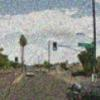traffic lights: (52, 41, 58, 51)
